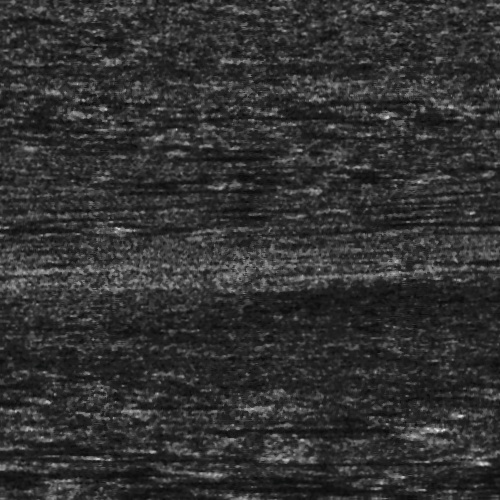object: (53, 215, 168, 232), (154, 462, 207, 477), (361, 422, 434, 431), (333, 110, 386, 117), (252, 152, 305, 159), (453, 459, 500, 464), (486, 214, 500, 225), (295, 180, 306, 191)
shadow: (0, 462, 181, 477), (0, 215, 110, 232), (200, 422, 397, 431), (357, 214, 500, 225), (165, 110, 359, 117), (375, 295, 500, 304), (296, 459, 484, 464), (147, 152, 279, 159), (235, 180, 300, 191), (466, 162, 500, 169), (484, 230, 500, 233)
